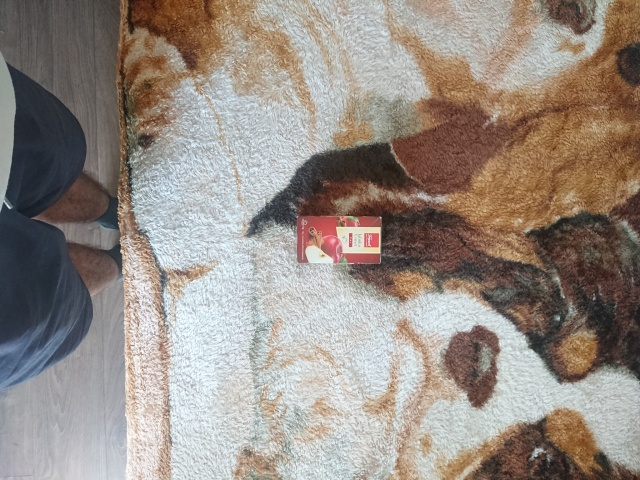Franck Apple Cinnamon Tea 60g: (294, 213, 383, 265)
